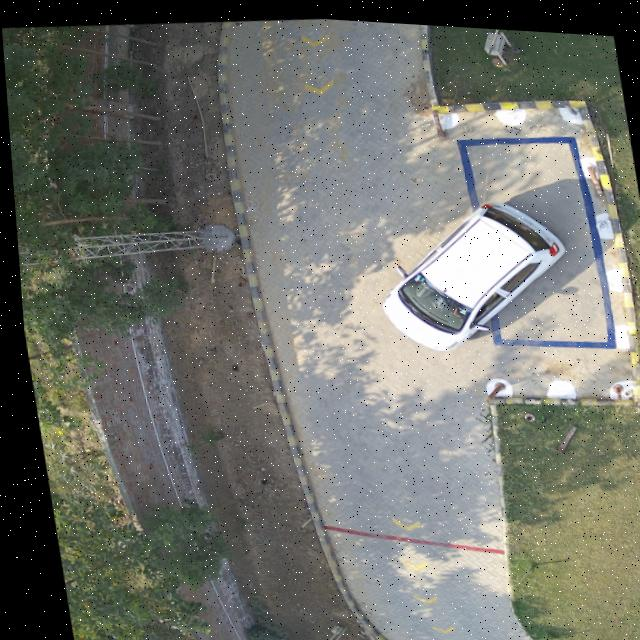car: (376, 194, 561, 345)
